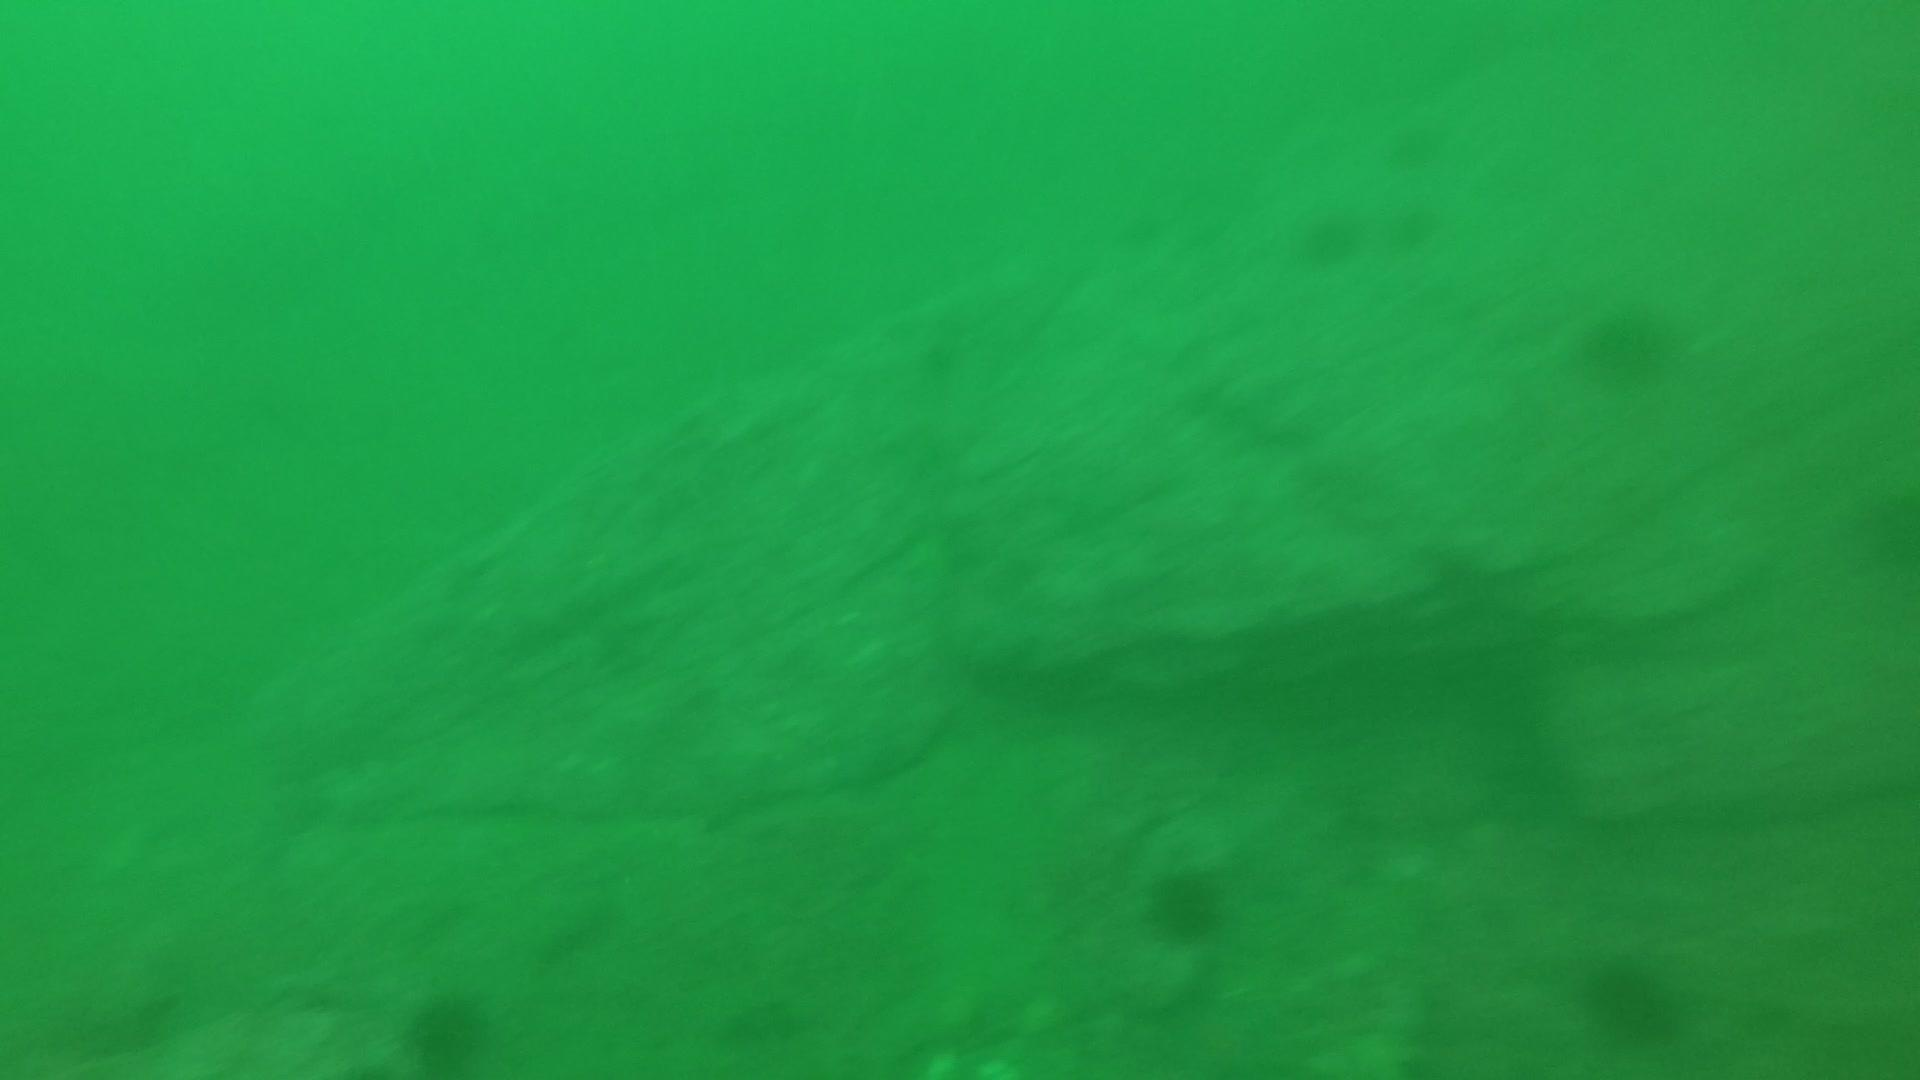echinus: (1575, 945, 1687, 1048), (1571, 293, 1687, 389), (398, 984, 496, 1069), (1141, 858, 1232, 945), (1845, 477, 1919, 579), (1294, 200, 1367, 270), (1382, 109, 1453, 173), (1385, 195, 1444, 255)
